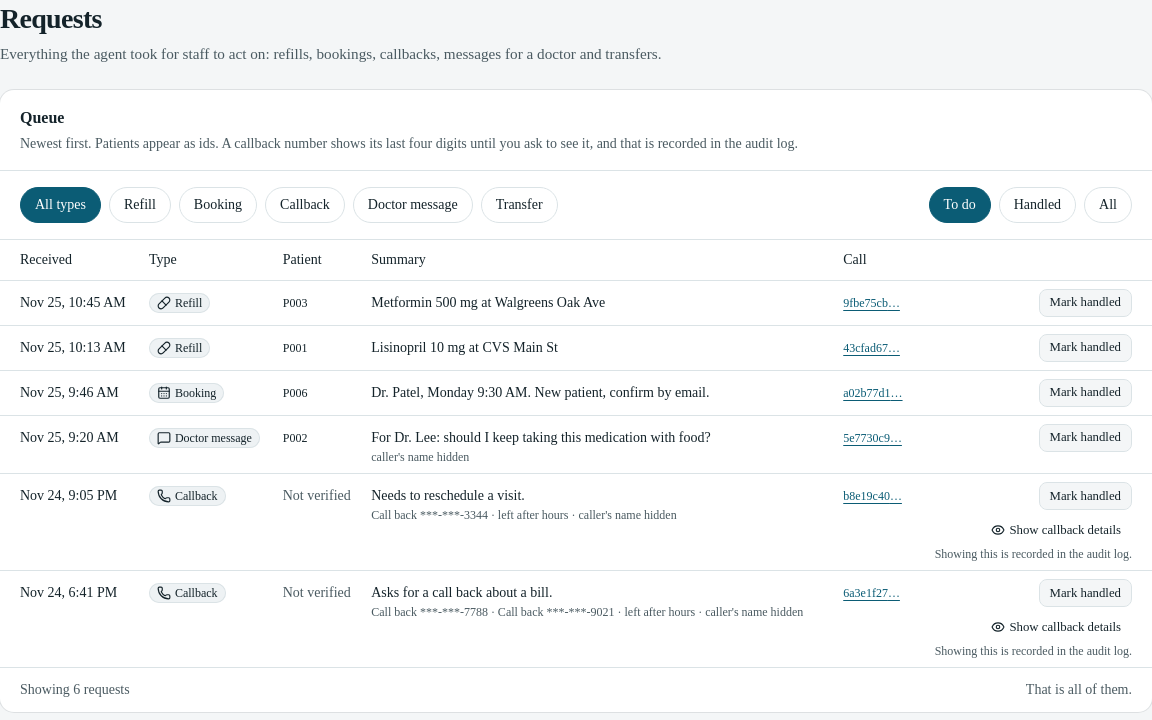
Test: Mark handled › says the session has changed when the anti-forgery check refuses it
The width and height of the screenshot is (1152, 720).
Click the button "Mark handled" in the row of "Nov 25, 10:45 AM" at (1085, 303), box top-left (1039, 289), bottom-right (1132, 317)
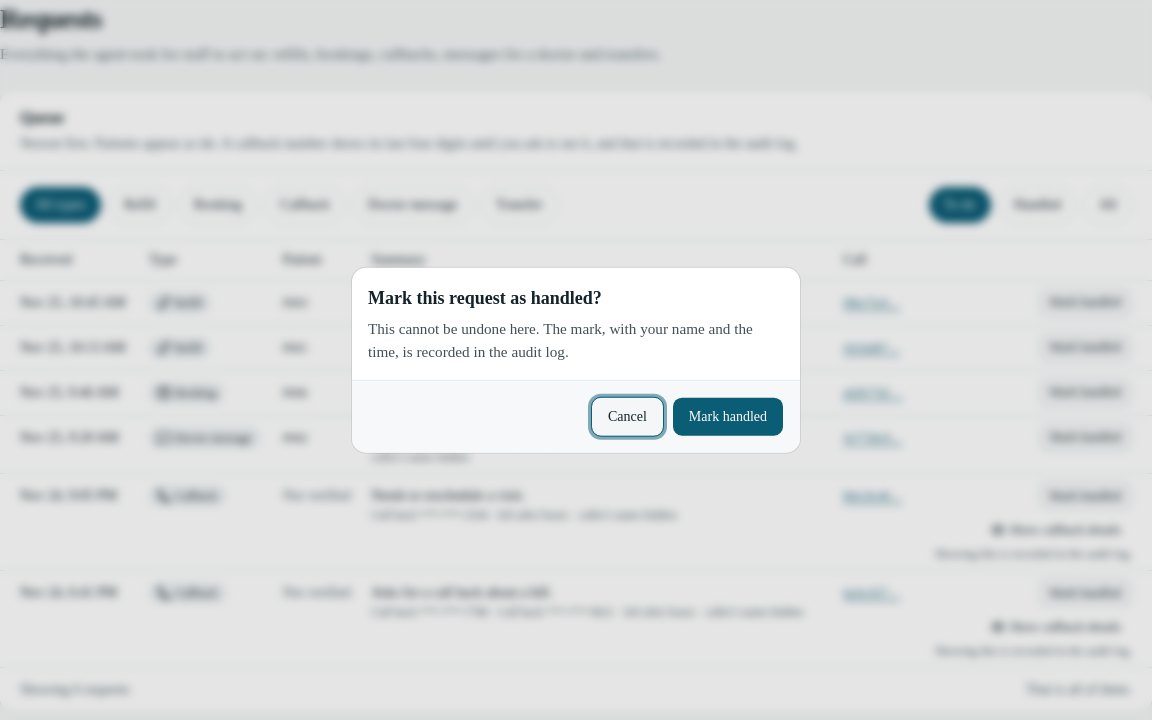
Click the button "Mark handled" at (728, 416), box top-left (672, 396), bottom-right (784, 436)
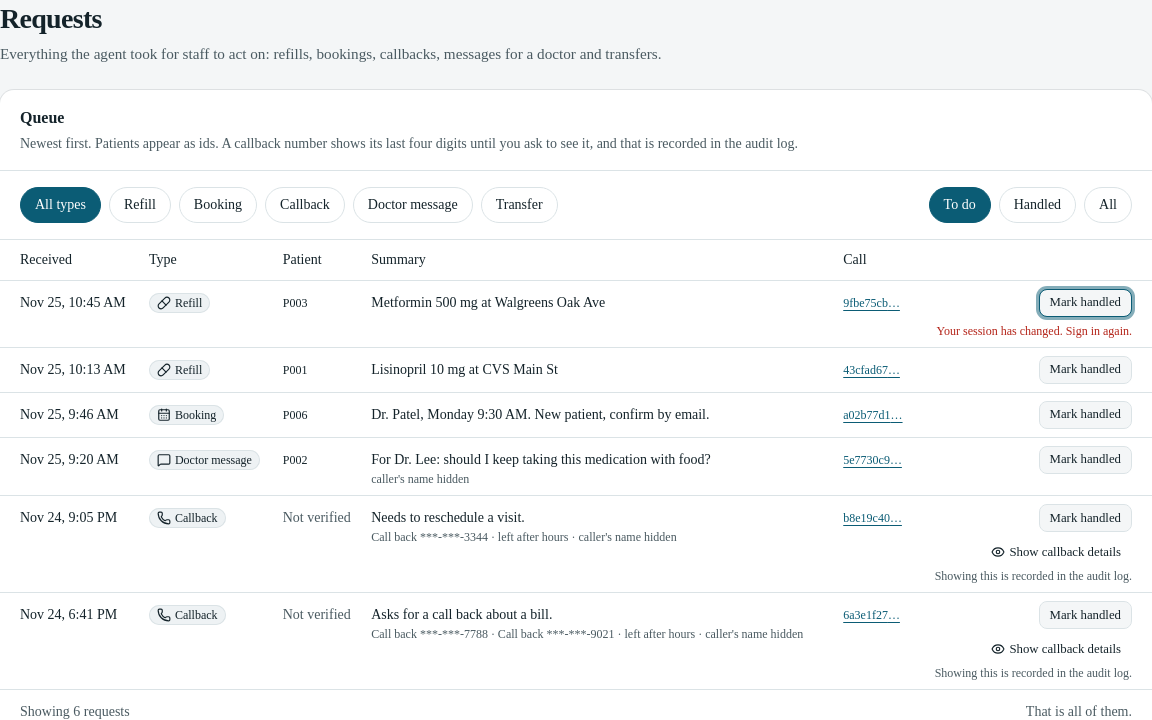
Expected: the dialog is gone
Expected: the text "Your session has changed. Sign in again." is shown, top-left (937, 323), bottom-right (1132, 339)
